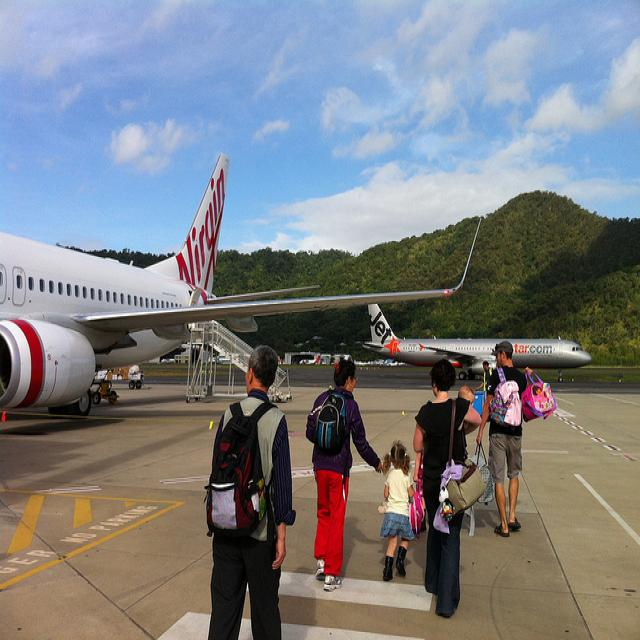Vehicle: (91, 371, 118, 404)
